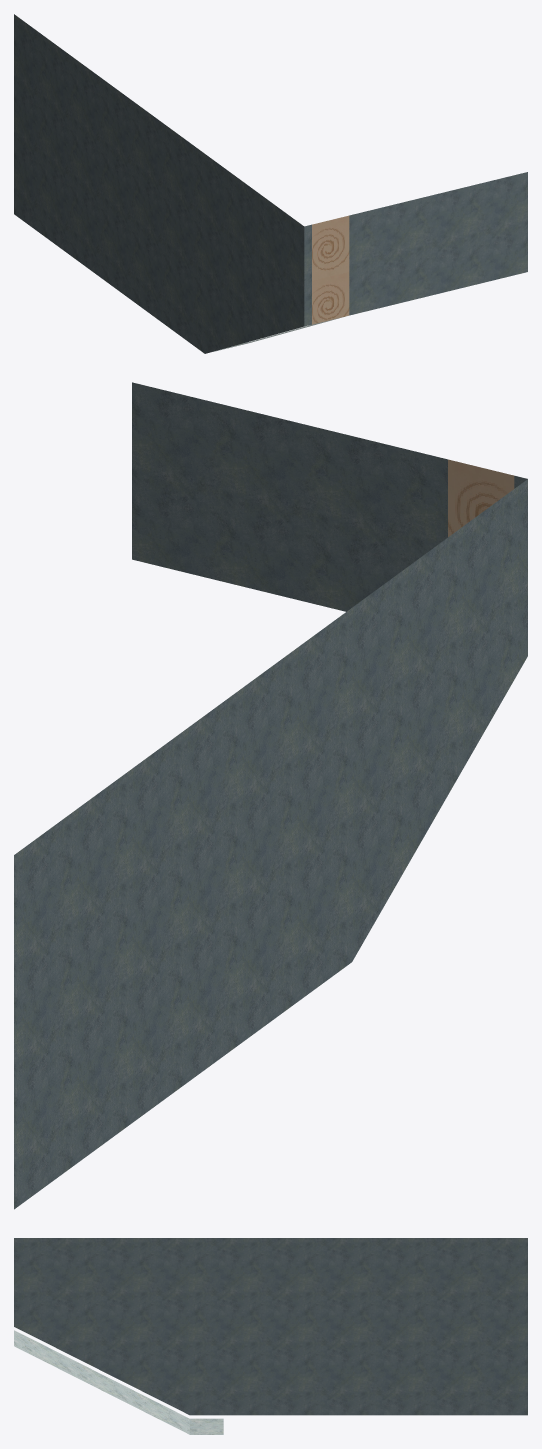
The model's file is FinalMap_Stairs_Top 1.FBX.
3 views of the same model, one above another, from view 1: azimuth 30°, elevation 25°; view 2: azimuth 150°, elevation 25°; view 3: azimuth 270°, elevation 25° (orthographic). The views are drawn at different scales.
Parts seen in each view (by area): view 1: FinalMap_Stairs_Top; view 2: FinalMap_Stairs_Top; view 3: FinalMap_Stairs_Top.
Part boxes in pixels (box(x1,y1,x2,y2)): FinalMap_Stairs_Top: box(14, 14, 527, 353); FinalMap_Stairs_Top: box(14, 382, 527, 1209); FinalMap_Stairs_Top: box(14, 1238, 527, 1434).
Bounding box in the file's own units: 1102 × 943 × 2478.
